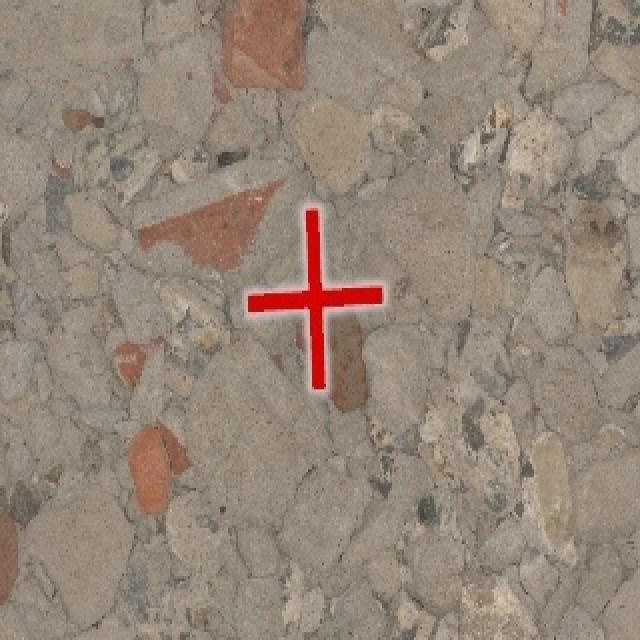x_marker: (247, 207, 383, 388)
